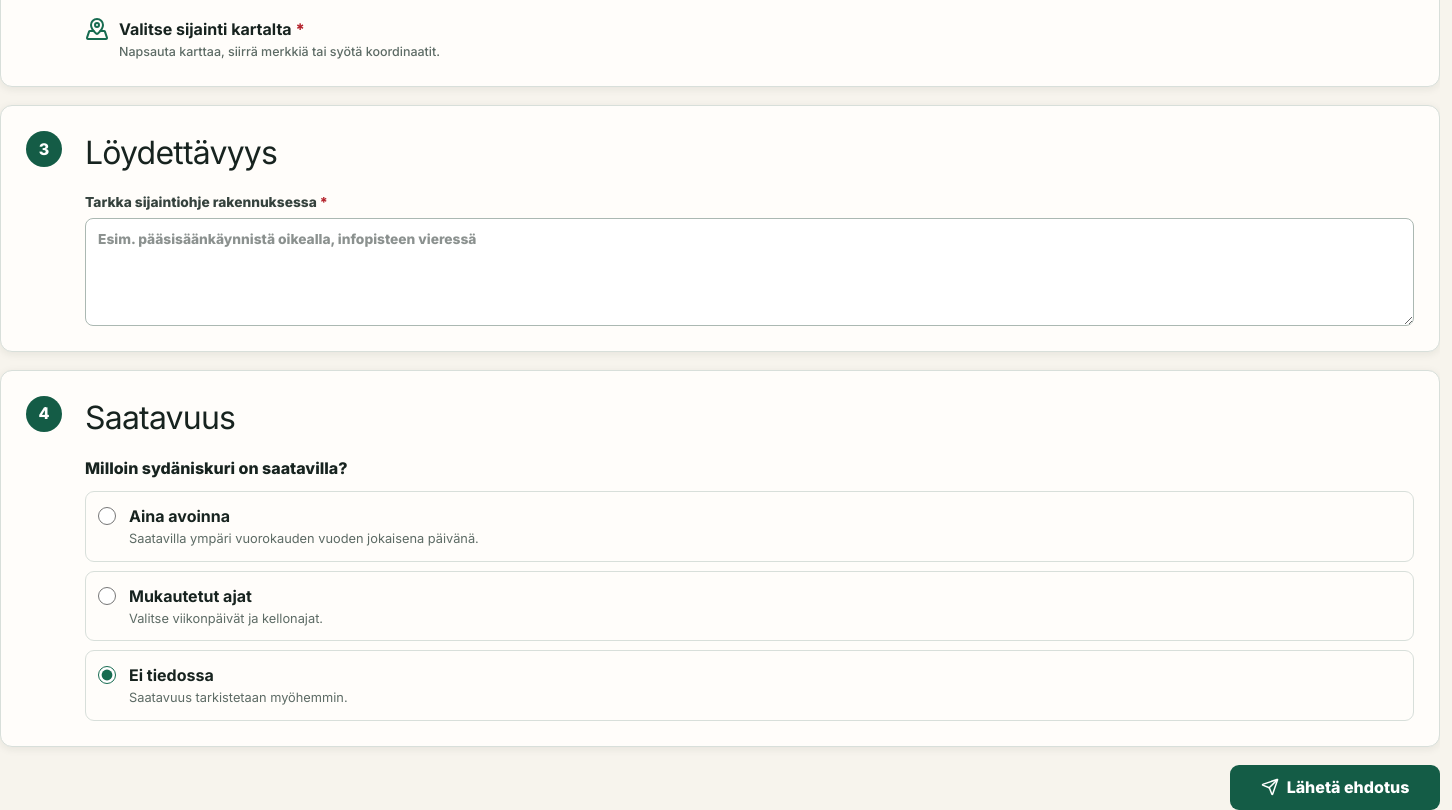
Test: ProposalForm › shows all sections and associates errors with fields
The width and height of the screenshot is (1452, 810).
(page scrolled)
Expected: the heading "Löydettävyys" is shown, [85, 133, 277, 172]
Expected: the heading "Saatavuus" is shown, [85, 398, 235, 436]
Click the button "Lähetä ehdotus".
click(1335, 787)  # box [1230, 765, 1440, 809]
(page scrolled)
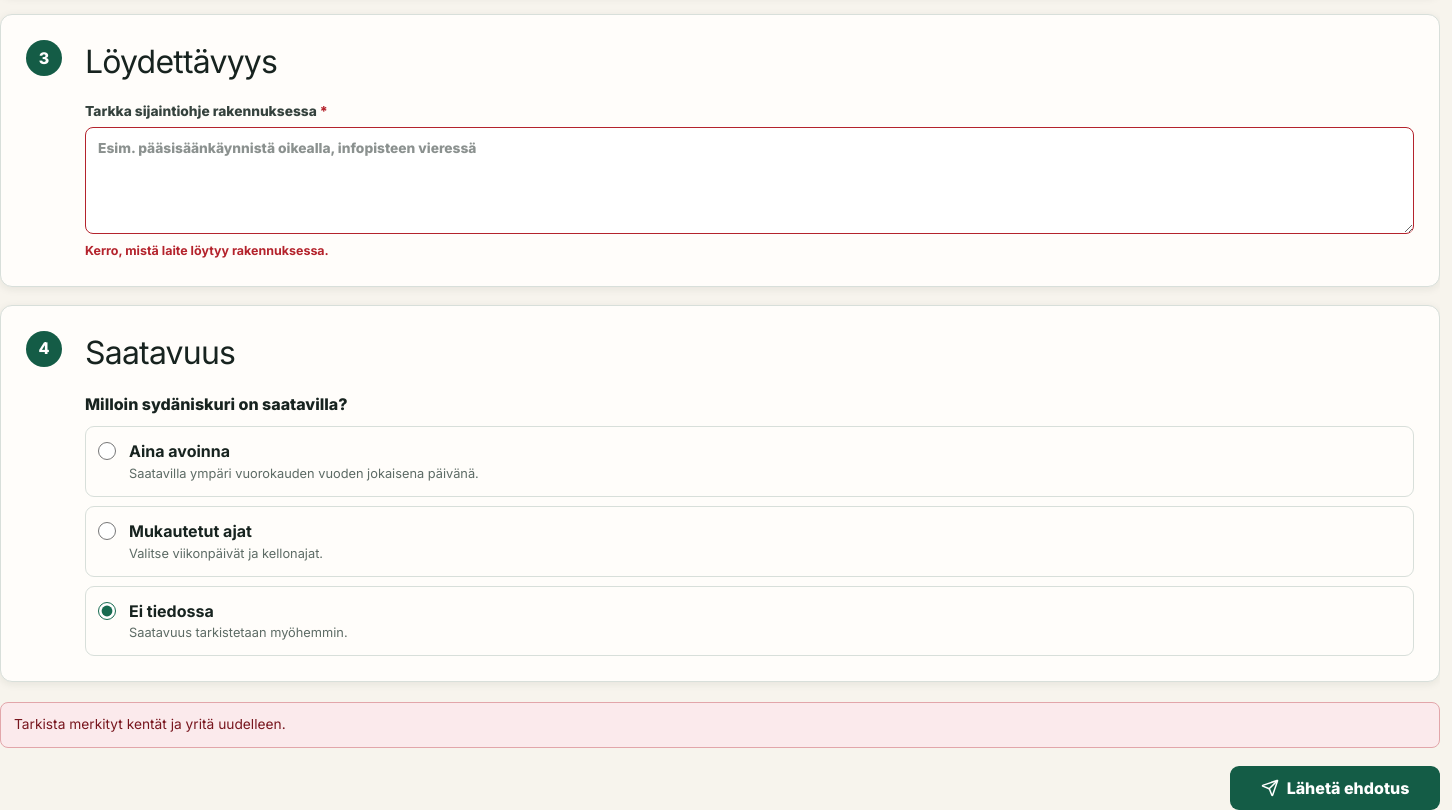
Now the message shows "Tarkista merkityt kentät", box [14, 716, 286, 732]
